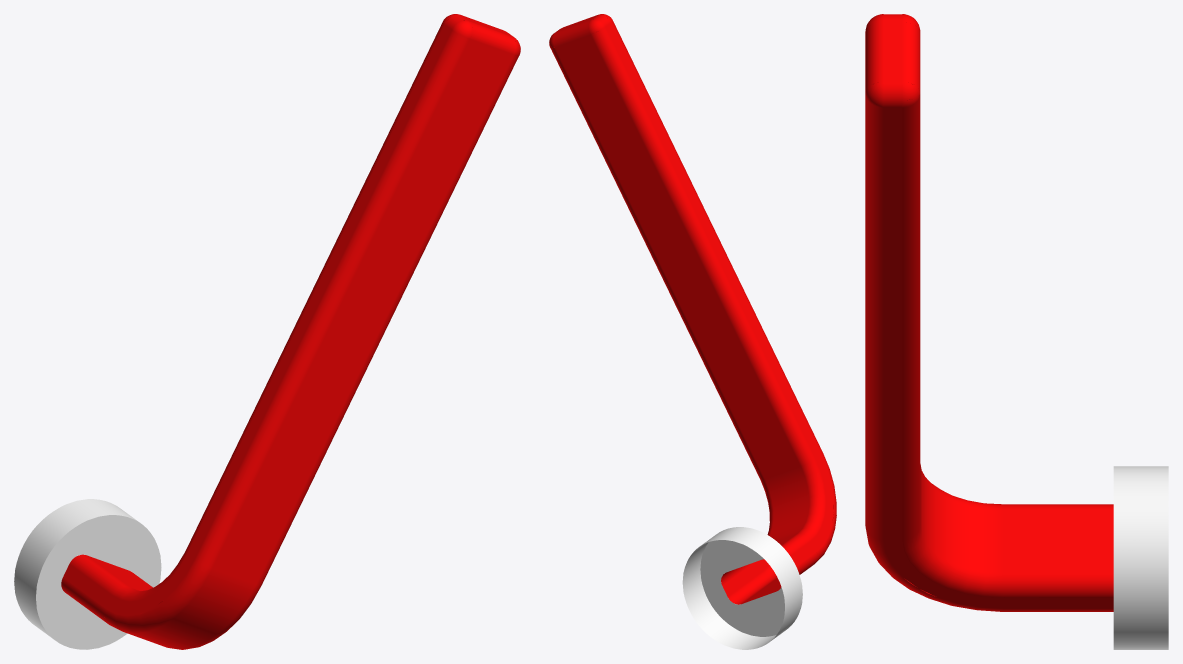
The model's file is handle_up.obj.
3 views of the same model, side by side, from view 1: azimuth 30°, elevation 25°; view 2: azimuth 150°, elevation 25°; view 3: azimuth 270°, elevation 25° (orthographic). The views are drawn at different scales.
Visible parts, largest first — view 1: NONE_DC_Shell; view 2: NONE_DC_Shell; view 3: NONE_DC_Shell.
Boxes of the visible parts, x1=… form: NONE_DC_Shell: x1=14, y1=14, x2=520, y2=649; NONE_DC_Shell: x1=549, y1=14, x2=836, y2=649; NONE_DC_Shell: x1=865, y1=14, x2=1168, y2=649.
Size of the model in its own units: 15.62 by 23.85 by 8.25.
